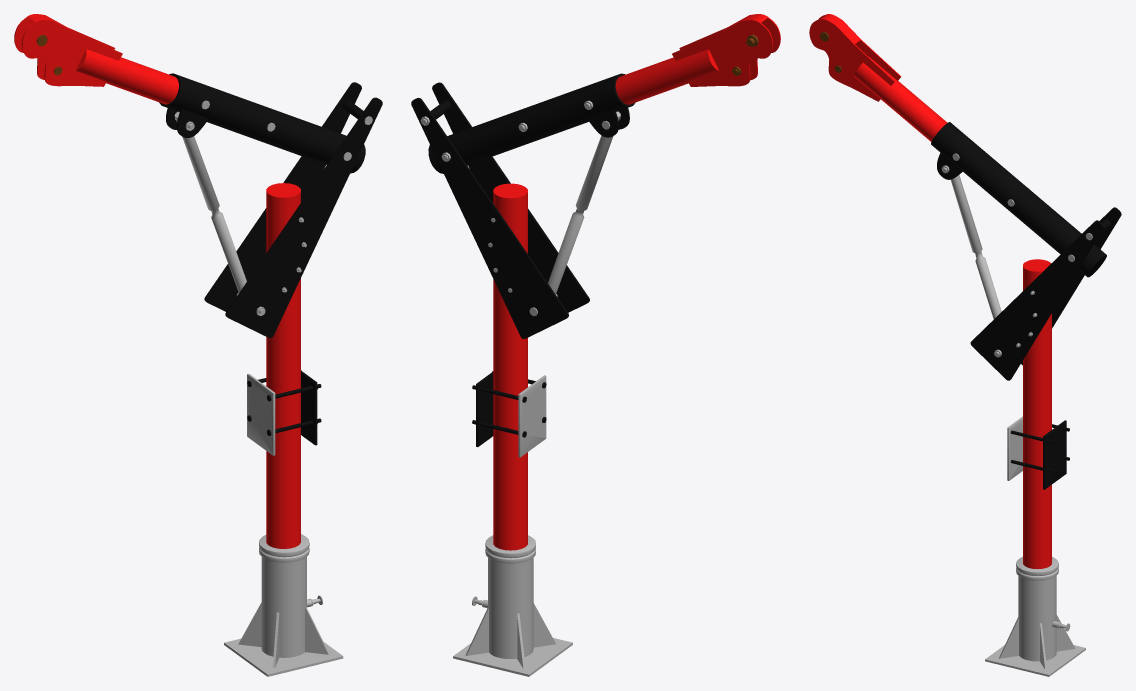
The model's file is SM_Davit_arm02.FBX.
The picture shows the model from 3 angles, left to right: view 1: azimuth 30°, elevation 25°; view 2: azimuth 150°, elevation 25°; view 3: azimuth 330°, elevation 25°; orthographic projection. The views are drawn at different scales.
Visible parts, largest first — view 1: SM_Davit_arm02; view 2: SM_Davit_arm02; view 3: SM_Davit_arm02.
Part boxes in pixels (x1,y1,x2,y2): SM_Davit_arm02: [14, 14, 382, 676]; SM_Davit_arm02: [411, 14, 780, 676]; SM_Davit_arm02: [809, 14, 1121, 676].
Size of the model in its own units: 817 by 1531 by 175.
